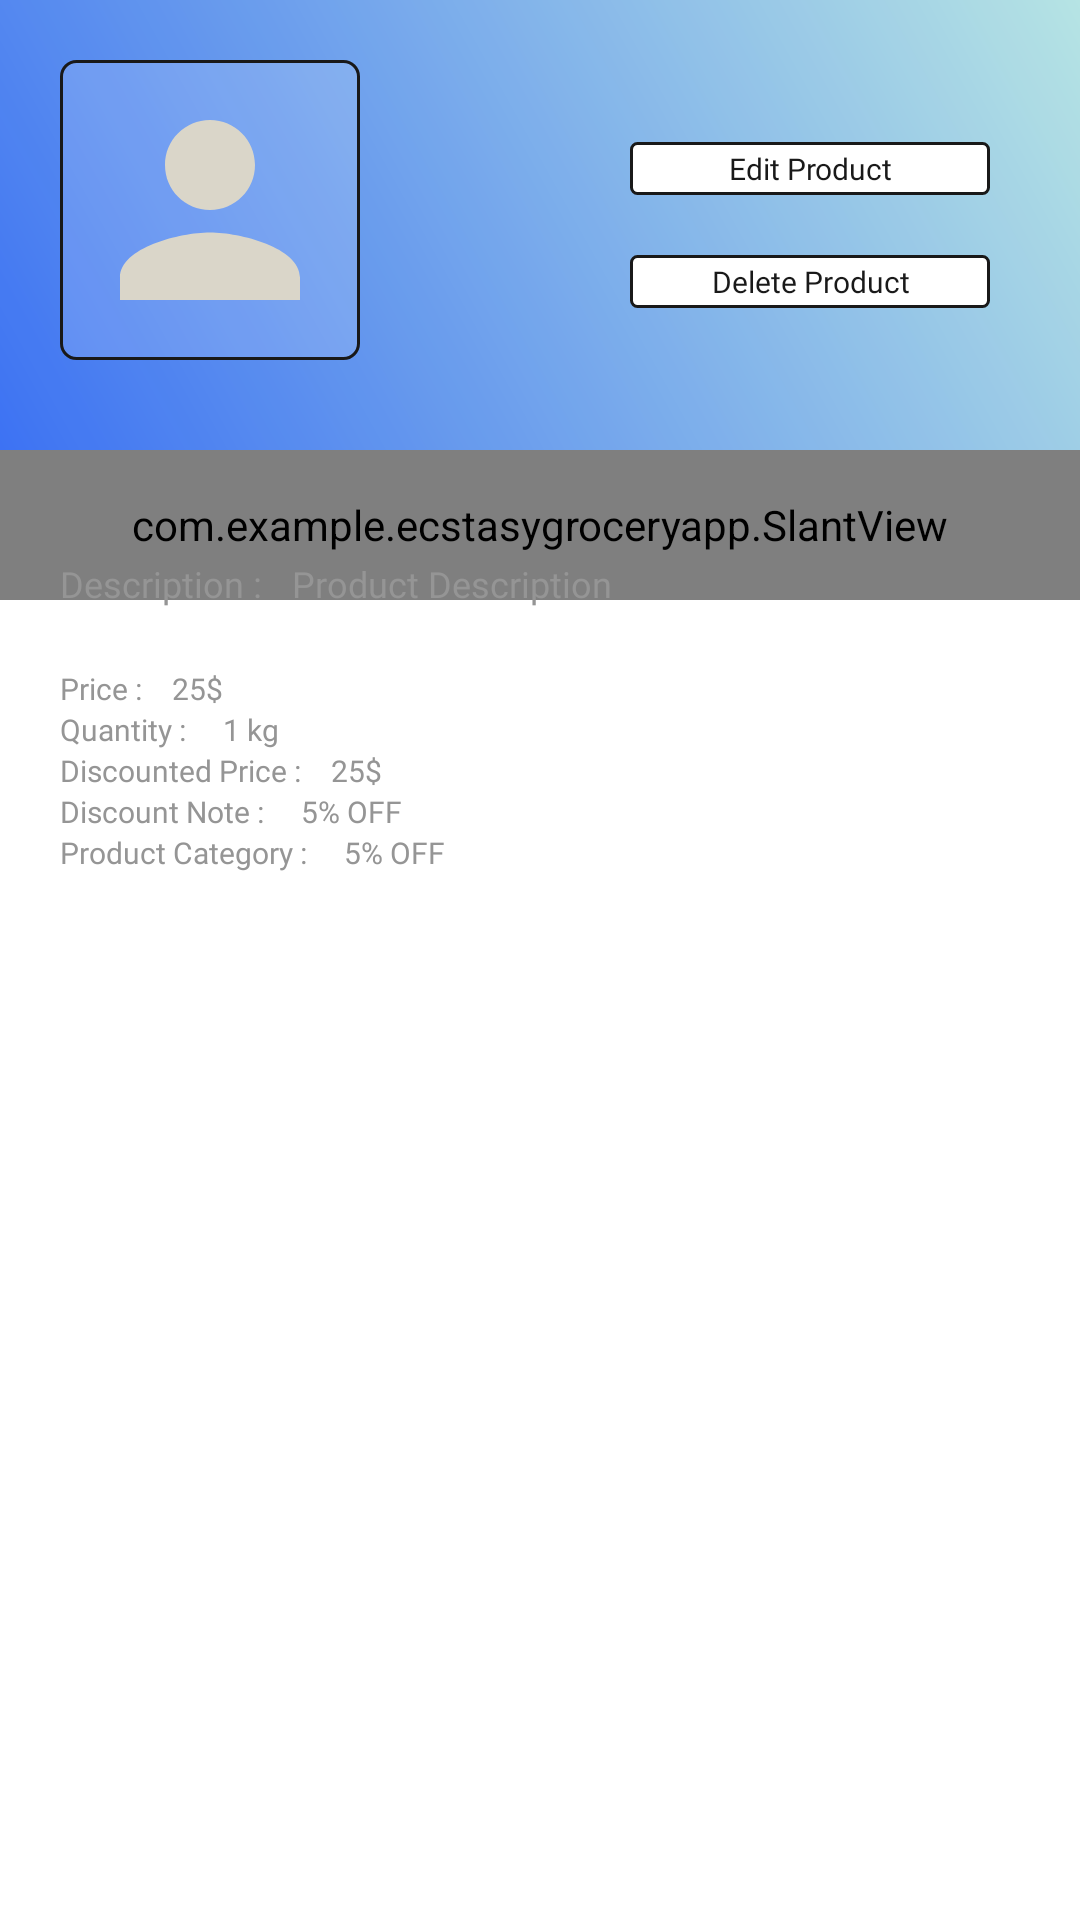

Icon bounding boxes for this 1080x1920 phone screenshot, format (x1,y1,x2,y2):
person: (120,120,300,300)
